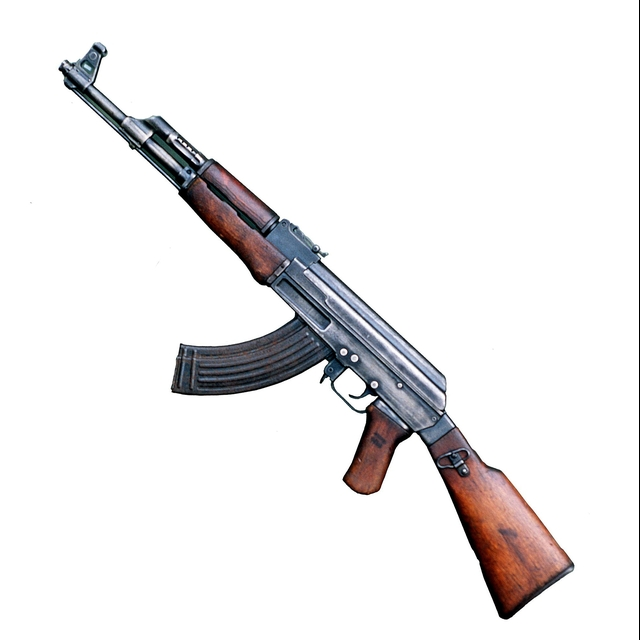AK47: (57, 39, 440, 497)
